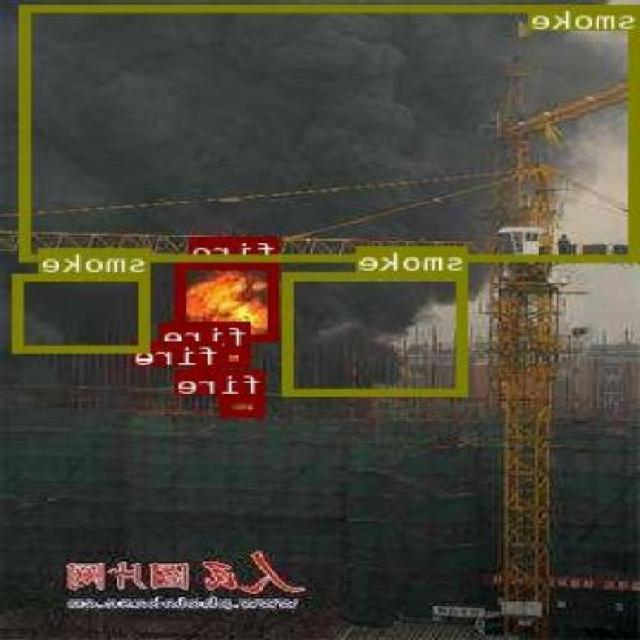Fire: (178, 262, 282, 341), (224, 394, 267, 416), (193, 364, 224, 384), (220, 347, 252, 365)
Smoke: (25, 3, 640, 260), (286, 272, 468, 394), (16, 273, 152, 352)
